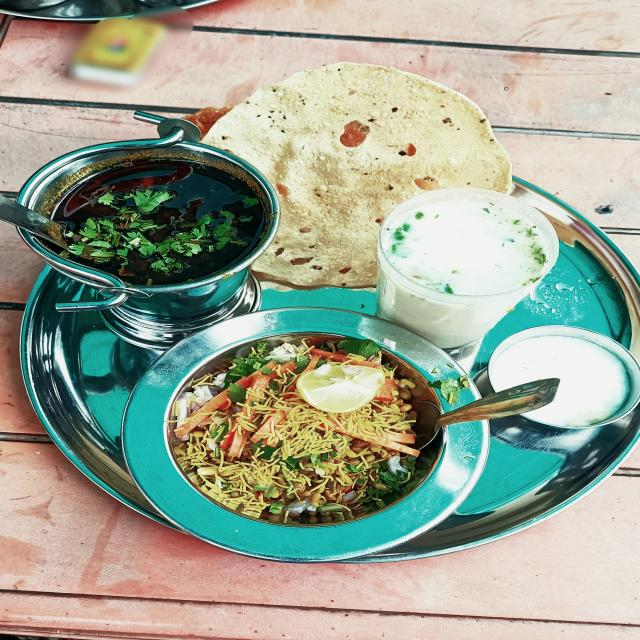Chaat: (173, 326, 449, 526)
Papad: (204, 66, 510, 286)
Raita: (386, 193, 551, 300)
